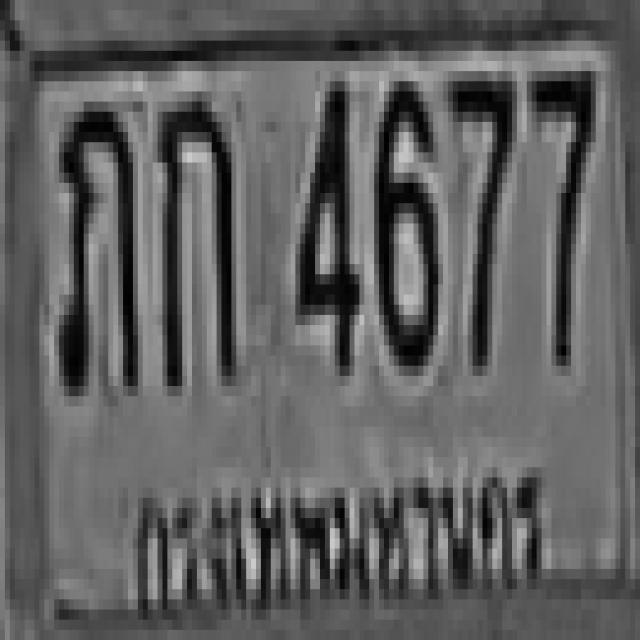10GorGai: (152, 91, 232, 386)
4: (296, 71, 354, 366)
41PhorSamPhao: (54, 102, 133, 386)
6: (369, 71, 433, 366)
7: (443, 71, 512, 366), (527, 61, 591, 356)
Bangkok: (120, 442, 560, 632)
